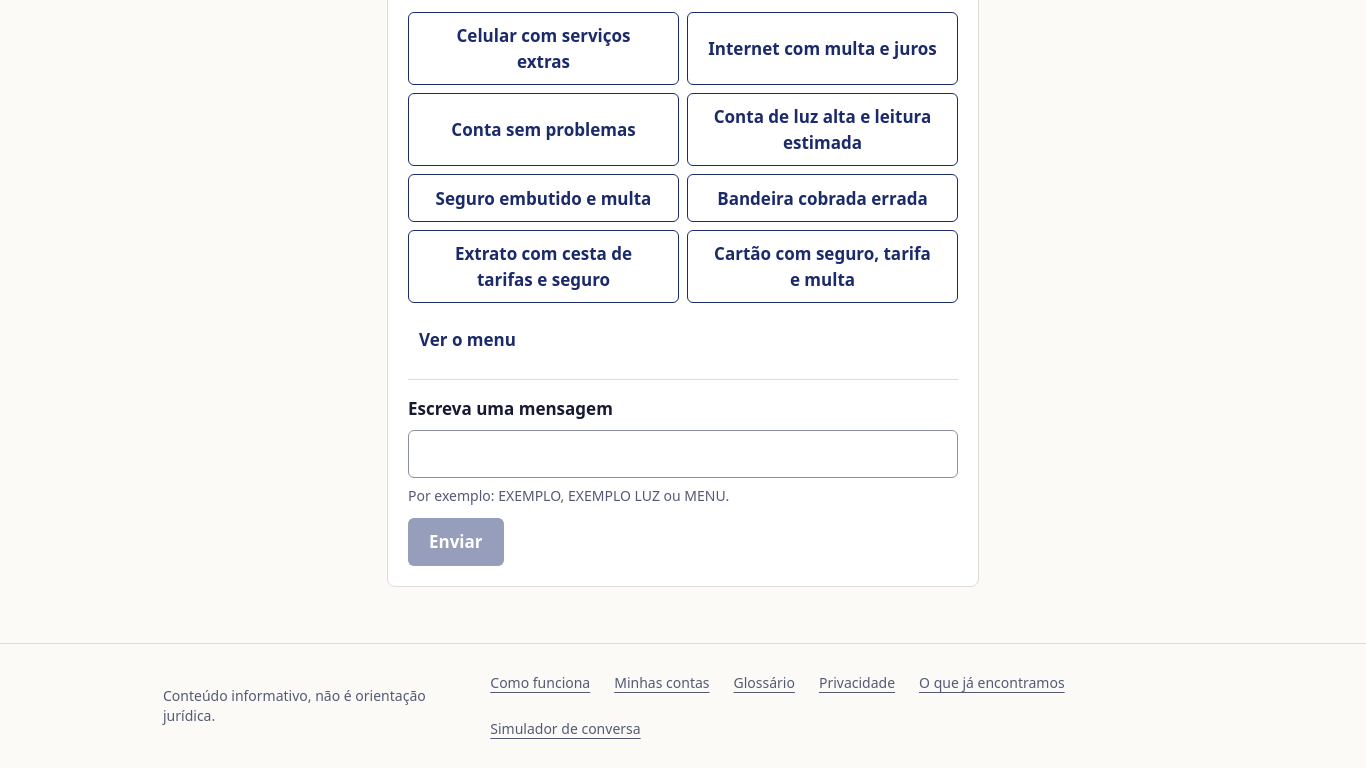
Test: #58: simulador do bot de WhatsApp › texto digitado vai como texto, limpa o campo e mostra a resposta do bot
The image size is (1366, 768).
(page scrolled)
Expected: the button "Enviar" is disabled, [408,518,504,566]
Type "  menu  " into the field labelled "Escreva uma mensagem" at x=683, y=454, box [408,430,958,478]
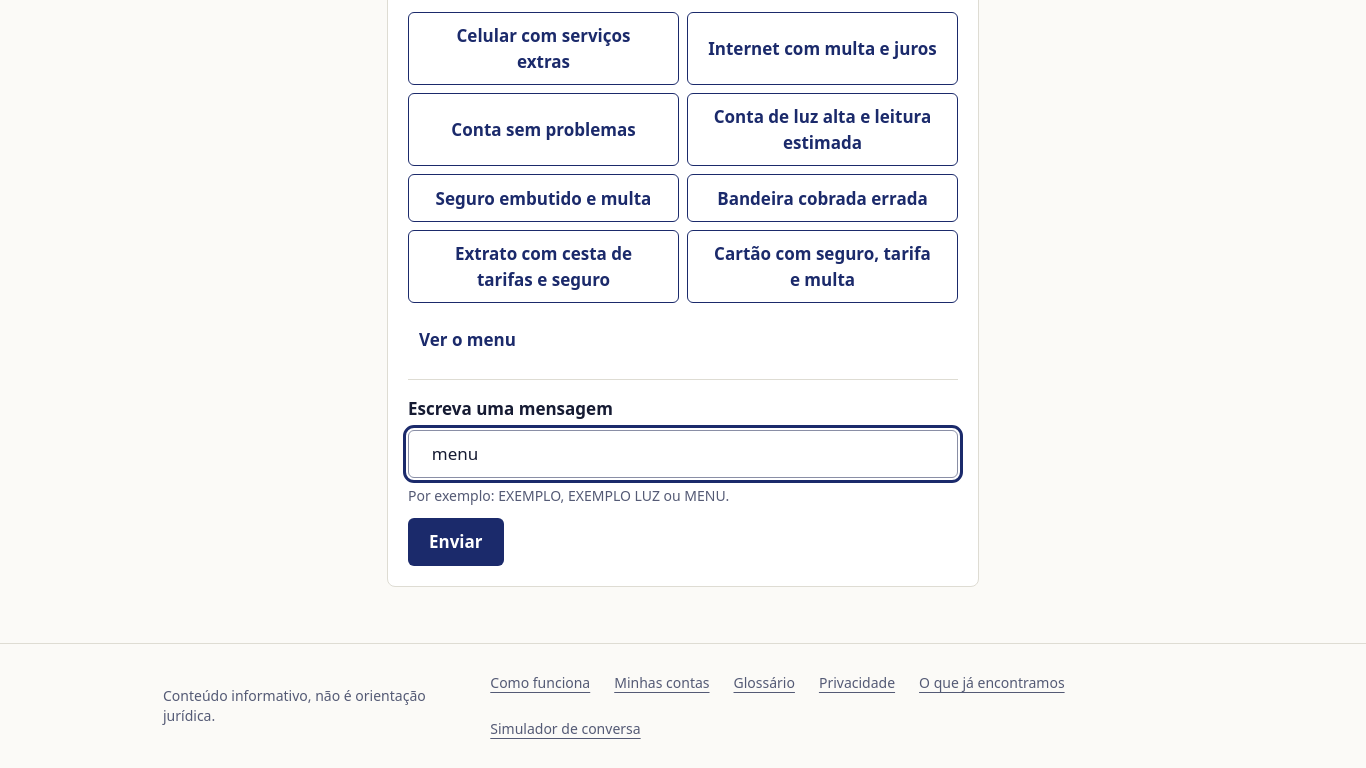
Click the button "Enviar" at x=456, y=542, box [408,518,504,566]
(page scrolled)
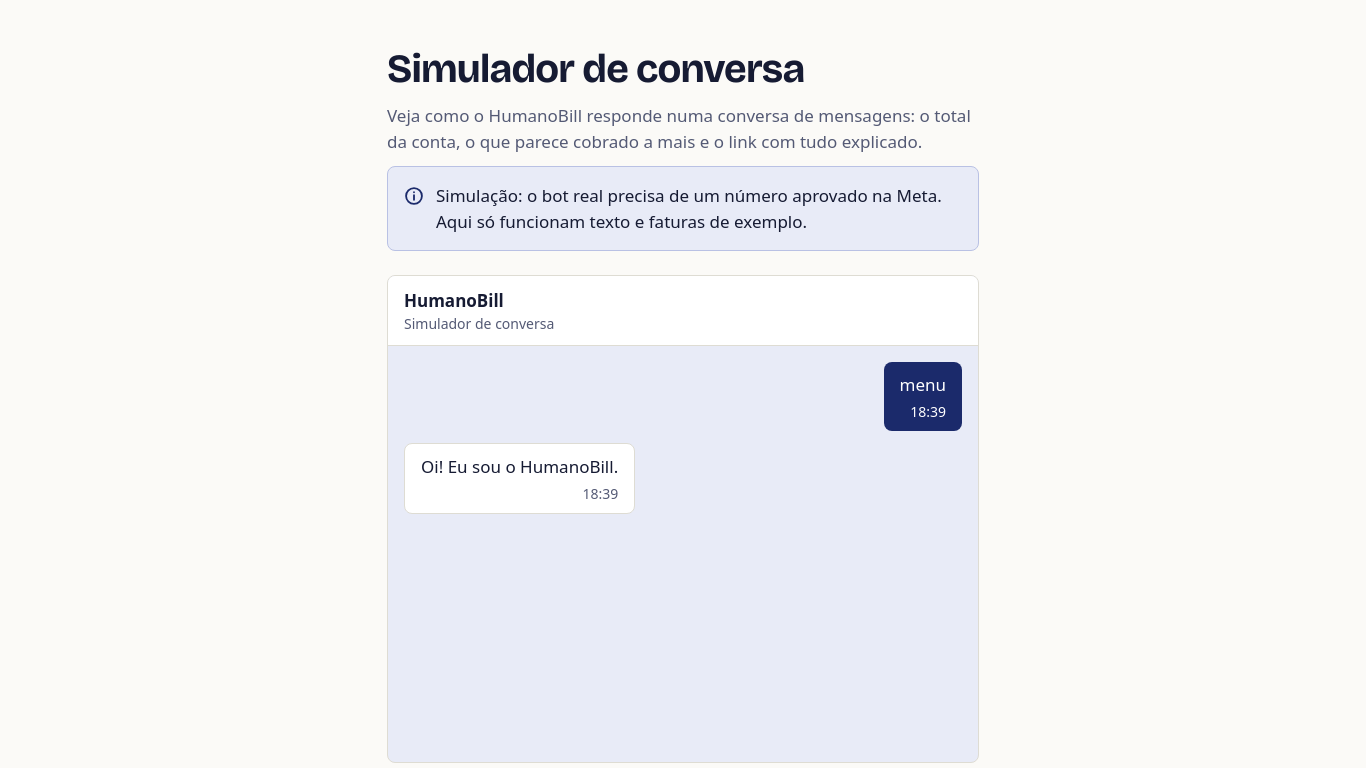
Expected: the text "menu" is shown, [900,372,946,398]
Now the text "Oi! Eu sou o HumanoBill." is shown, box [421,454,618,480]
